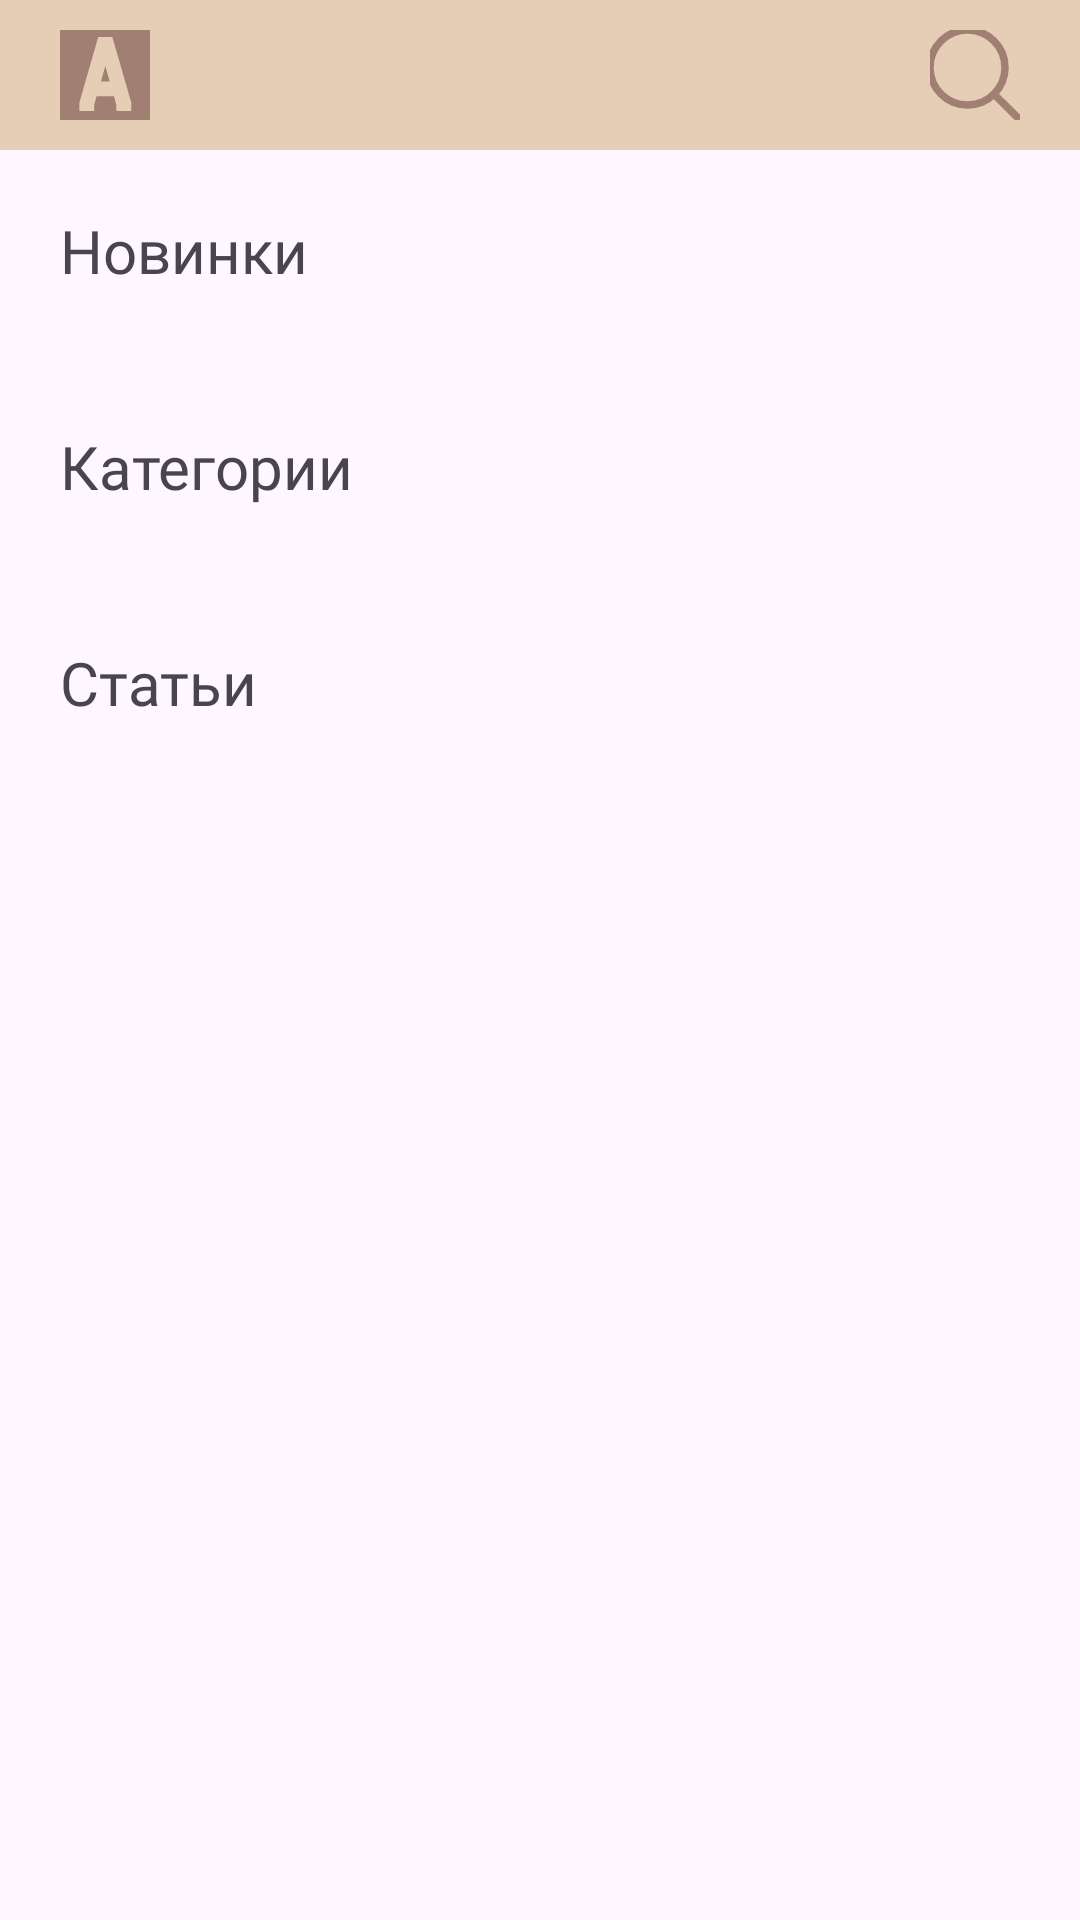

Point at icon controls on the screen. Image size 1080x1920, points as point (x, y).
search: point (975, 75)
